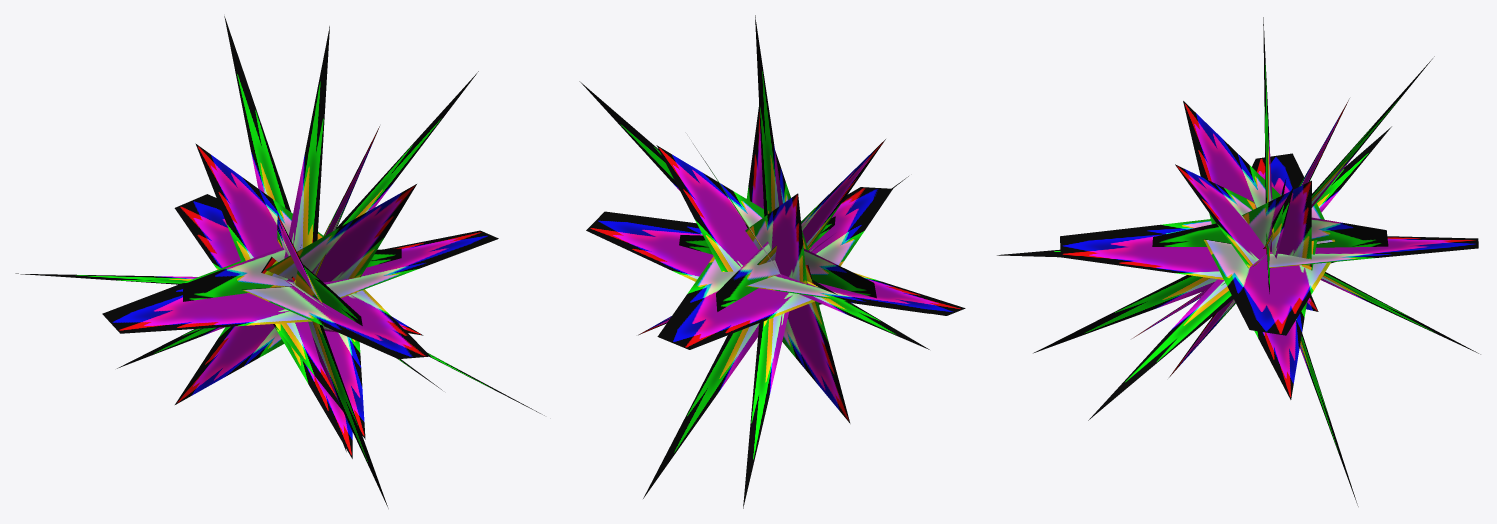
The model's file is Hit FX 1.fbx.
3 renders of one model, left to right at view 1: azimuth 30°, elevation 25°; view 2: azimuth 150°, elevation 25°; view 3: azimuth 270°, elevation 25°, orthographic. The views are drawn at different scales.
Parts seen in each view (by area): view 1: Burst; view 2: Burst; view 3: Burst.
Part boxes in pixels (x1,y1,x2,y2): Burst: (15, 16, 544, 508); Burst: (579, 15, 965, 508); Burst: (997, 17, 1480, 506).
Bounding box in the file's own units: 3242 × 3597 × 3428.
34 materials, 34 textured.
